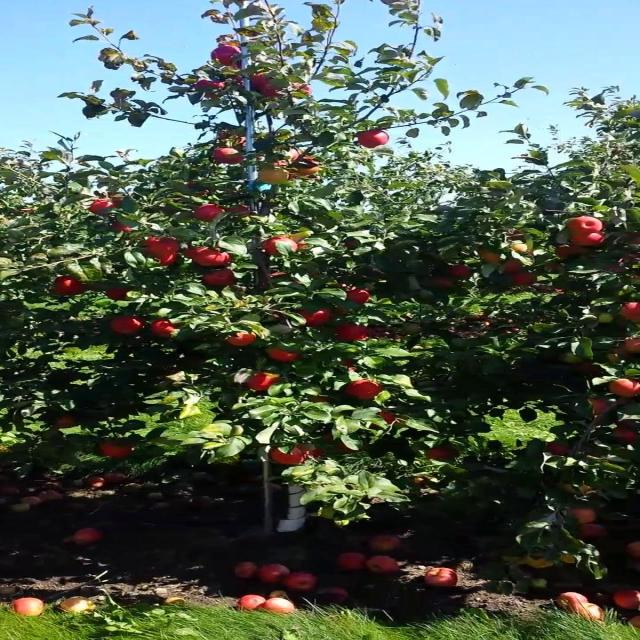apple: (191, 248, 233, 268), (141, 236, 180, 256), (348, 380, 384, 400), (262, 236, 299, 255), (269, 148, 304, 168), (298, 308, 334, 327), (269, 448, 306, 466), (248, 372, 281, 392), (291, 156, 322, 177), (56, 276, 87, 296), (212, 44, 242, 64), (113, 316, 144, 335), (568, 216, 604, 232), (212, 148, 245, 165), (340, 324, 370, 342), (99, 444, 135, 459), (262, 168, 293, 185), (227, 332, 258, 348), (611, 380, 638, 398), (198, 80, 228, 96), (198, 204, 224, 222), (269, 348, 300, 363), (554, 244, 585, 259), (362, 132, 391, 148), (568, 508, 597, 524), (156, 320, 183, 337), (205, 272, 235, 287), (248, 72, 274, 89), (575, 232, 604, 247), (220, 132, 249, 147), (511, 272, 539, 287), (561, 484, 596, 496), (156, 252, 183, 267), (426, 448, 457, 461), (582, 524, 608, 539), (589, 400, 612, 416), (333, 440, 357, 455), (227, 204, 254, 217), (618, 428, 639, 444), (92, 200, 114, 215), (106, 192, 128, 207), (376, 412, 402, 424), (611, 352, 636, 364), (106, 288, 130, 300), (547, 444, 571, 456), (447, 268, 473, 279), (504, 260, 526, 273), (291, 84, 313, 97), (625, 304, 639, 324), (348, 292, 370, 304), (56, 416, 78, 428), (483, 252, 505, 264), (511, 244, 533, 256), (611, 352, 633, 364), (532, 556, 553, 568), (596, 312, 617, 324), (262, 88, 284, 99), (340, 360, 357, 372), (184, 248, 204, 258), (113, 224, 135, 233), (625, 340, 639, 353), (433, 280, 455, 288), (582, 364, 601, 373), (312, 448, 327, 459), (312, 396, 332, 404), (511, 232, 526, 241), (625, 236, 639, 245), (561, 556, 576, 564), (547, 264, 562, 272), (611, 264, 626, 272), (163, 372, 178, 377), (191, 360, 206, 365)
